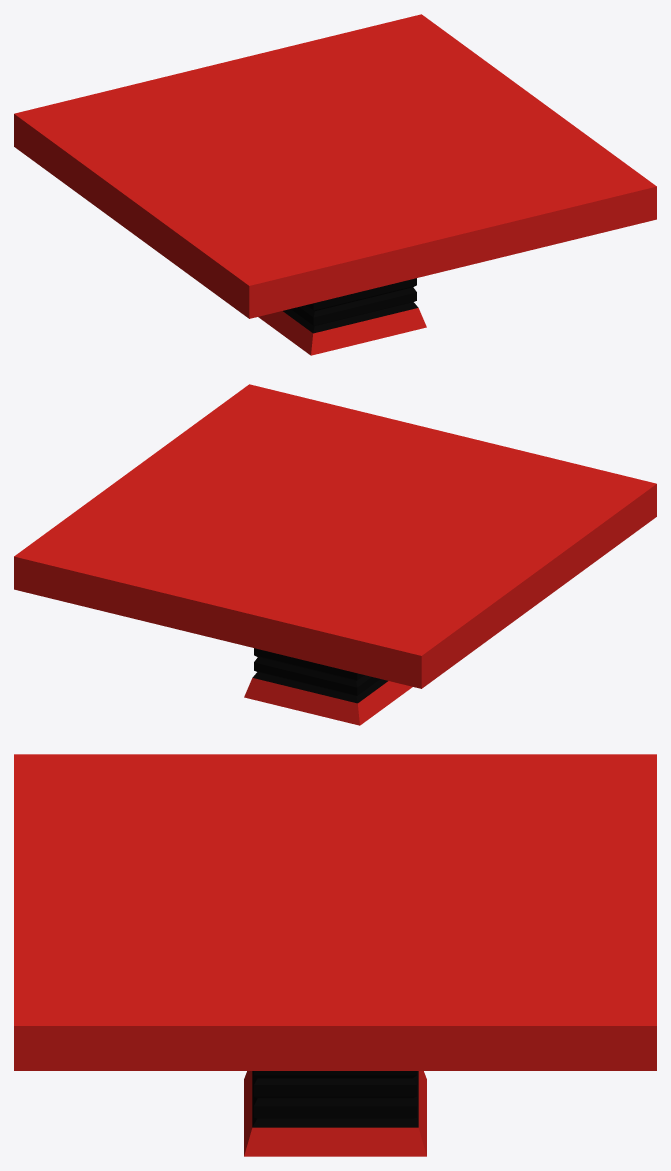
The model's file is Jump_Pad.fbx.
3 views of the same model, one above another, from view 1: azimuth 30°, elevation 25°; view 2: azimuth 150°, elevation 25°; view 3: azimuth 270°, elevation 25° (orthographic). The views are drawn at different scales.
Visible parts, largest first — view 1: Jump pad; view 2: Jump pad; view 3: Jump pad.
Boxes of the visible parts, x1,y1,x2,y2 form: Jump pad: (14,14,656,355); Jump pad: (14,384,656,725); Jump pad: (14,754,656,1156).
Size of the model in its own units: 337 by 132 by 337.
